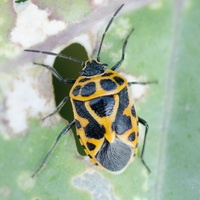insect: (24, 4, 156, 175)
